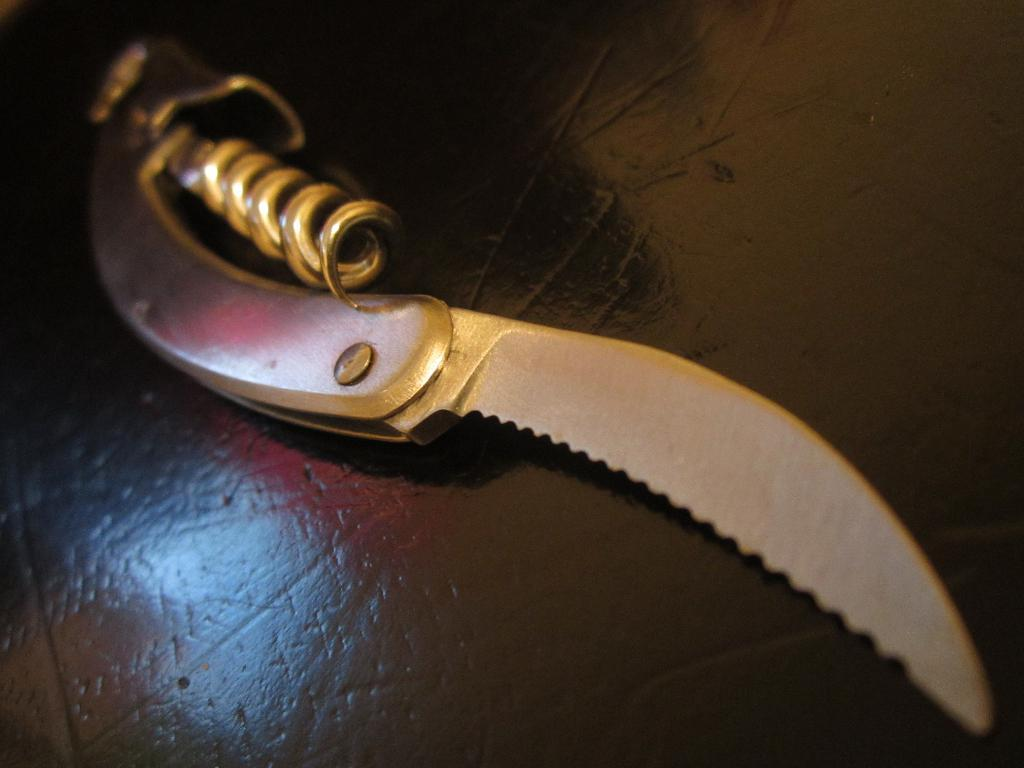Knife: (83, 34, 996, 738)
